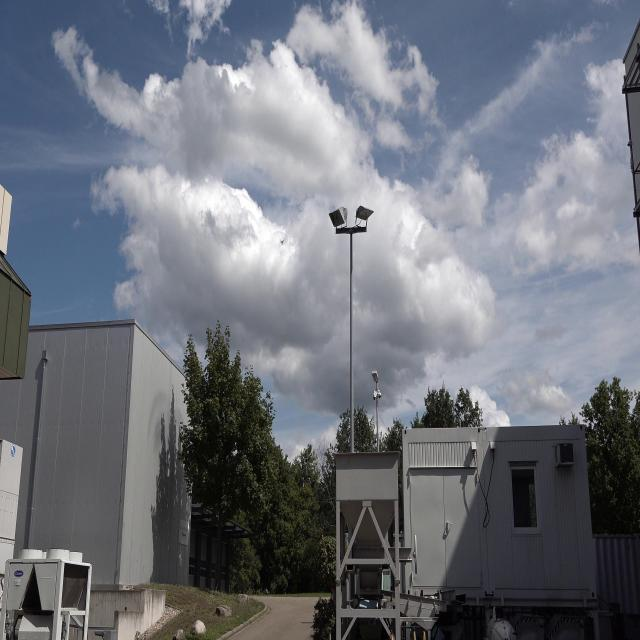drone: (278, 237, 286, 244)
